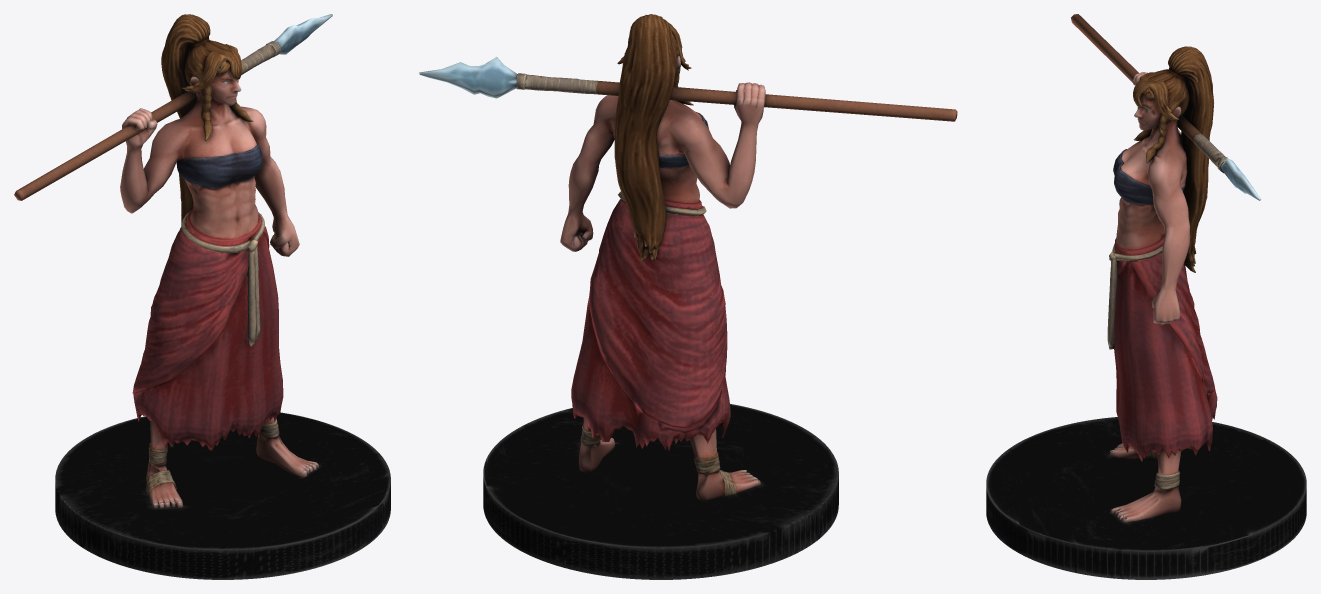
File: MZ4250 - Human Tribal Female Warrior.glb
3 views of the same model, side by side, from view 1: azimuth 30°, elevation 25°; view 2: azimuth 150°, elevation 25°; view 3: azimuth 270°, elevation 25° (orthographic). The views are drawn at different scales.
Visible parts, largest first — view 1: body_high.002, base_high.002, spear_high.002; view 2: body_high.002, base_high.002, spear_high.002; view 3: base_high.002, body_high.002, spear_high.002.
Boxes of the visible parts, box(x1,y1,x2,y2) form: body_high.002: box(120, 14, 318, 508); base_high.002: box(55, 412, 390, 579); spear_high.002: box(14, 14, 332, 200); body_high.002: box(560, 14, 765, 500); base_high.002: box(483, 404, 838, 579); spear_high.002: box(419, 57, 957, 121); base_high.002: box(986, 417, 1306, 579); body_high.002: box(1107, 46, 1217, 522); spear_high.002: box(1071, 14, 1260, 200).
Size of the model in its own units: 2.61 by 2.91 by 1.84.
1 material, 1 textured.
